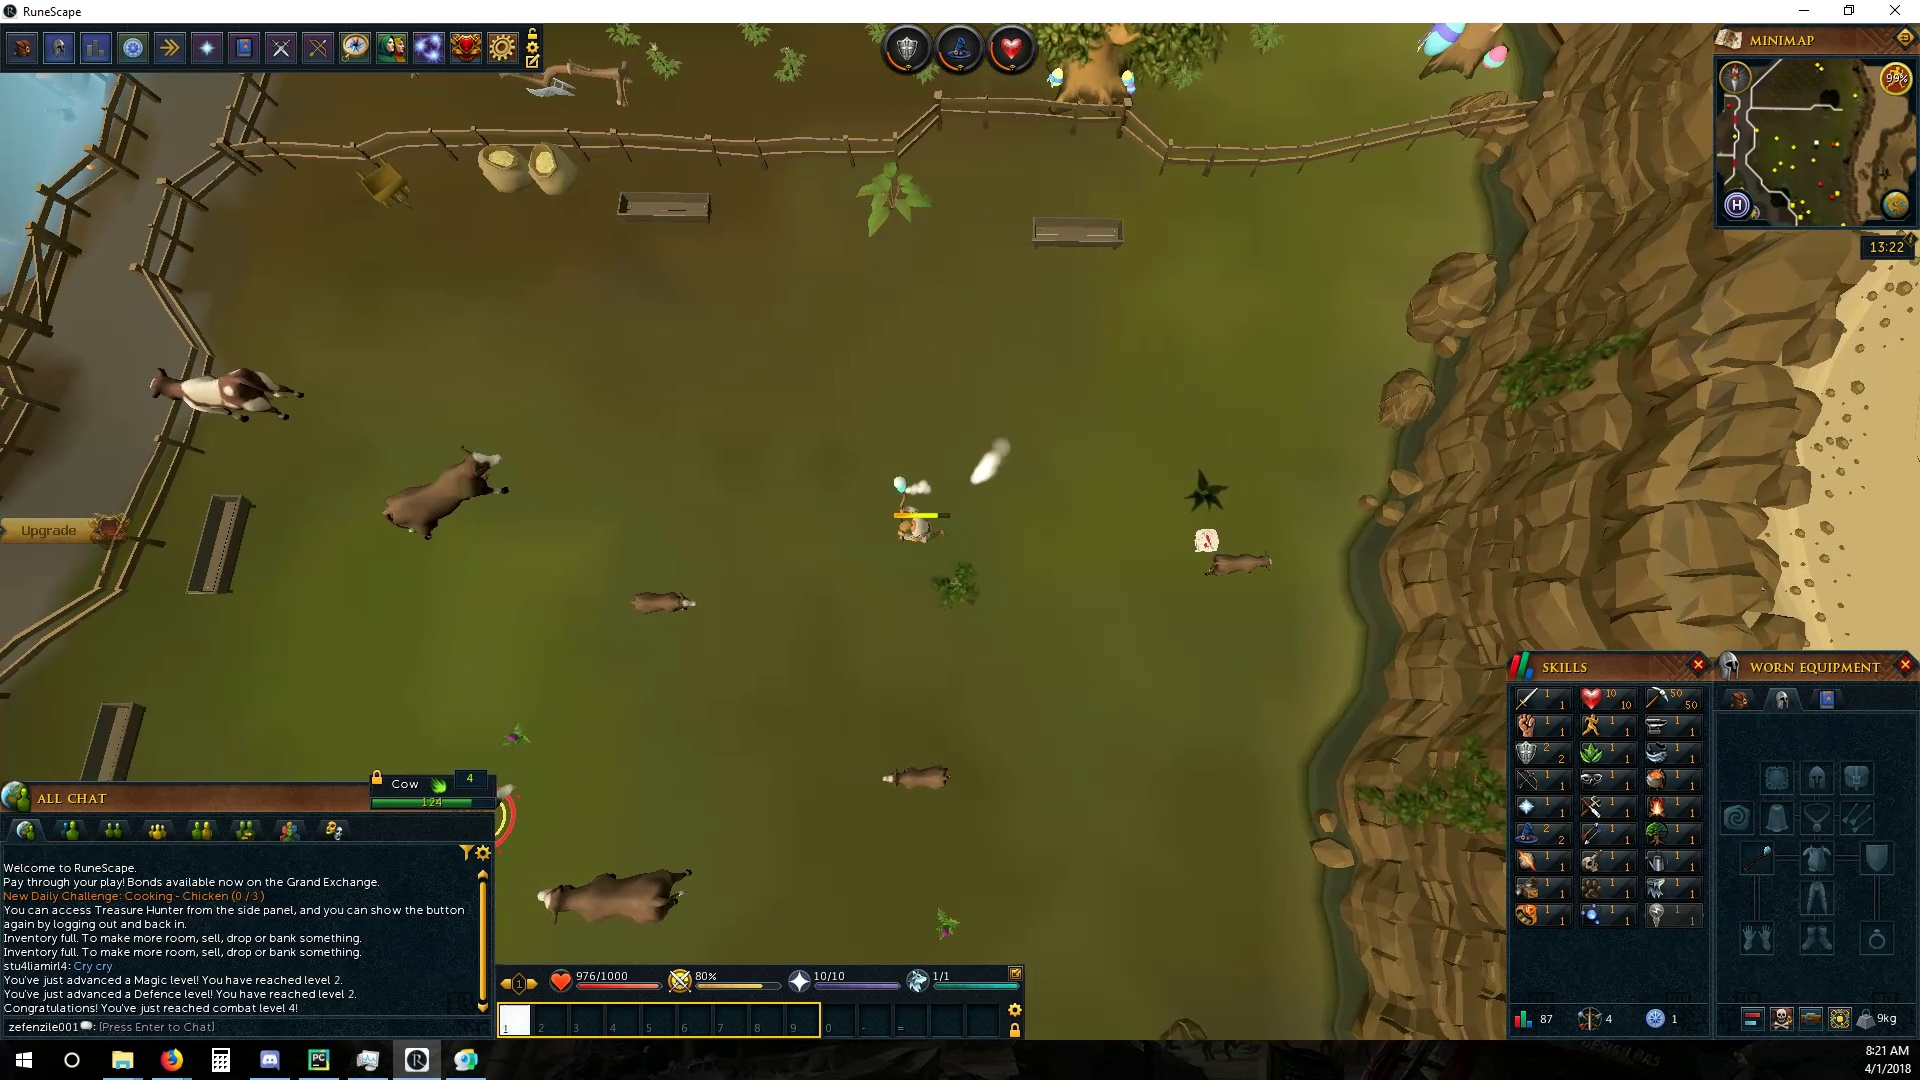calf: (1205, 550, 1276, 582), (880, 764, 953, 791), (628, 592, 700, 616)
cow: (376, 444, 510, 545), (537, 861, 698, 928), (146, 364, 313, 429)
cow_drop: (1189, 524, 1218, 554)
